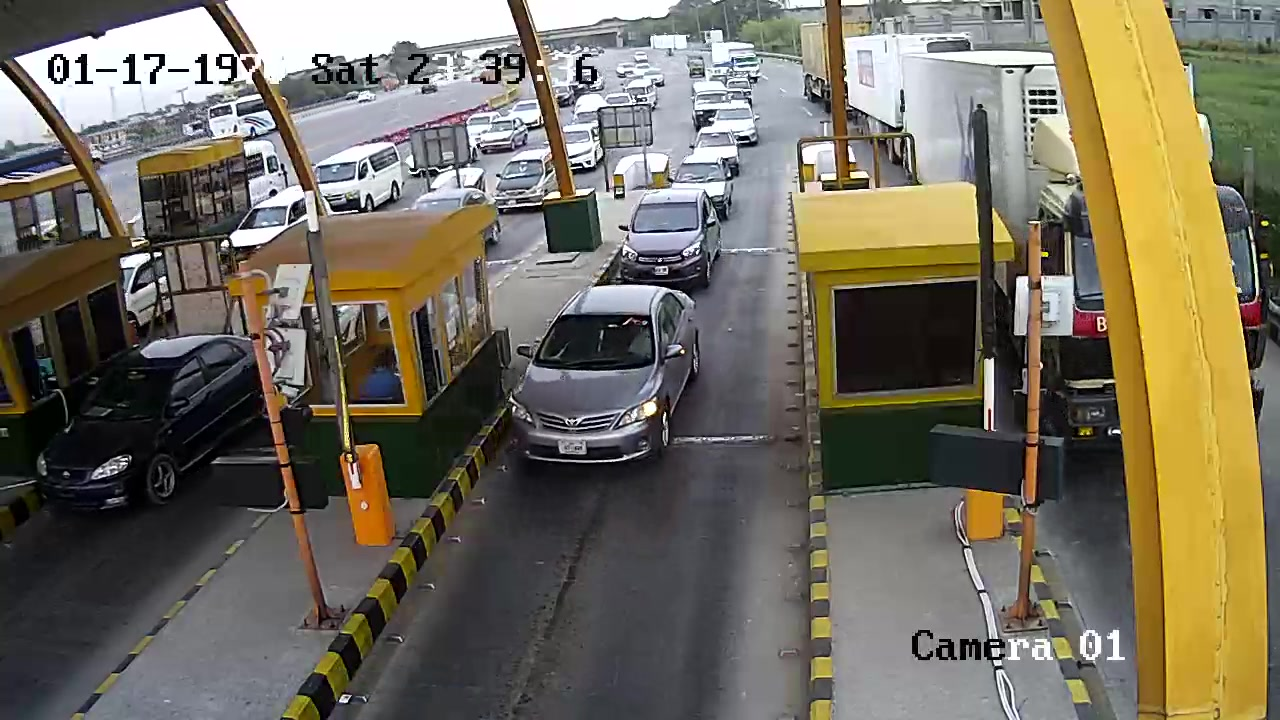F1: (506, 281, 772, 474)
